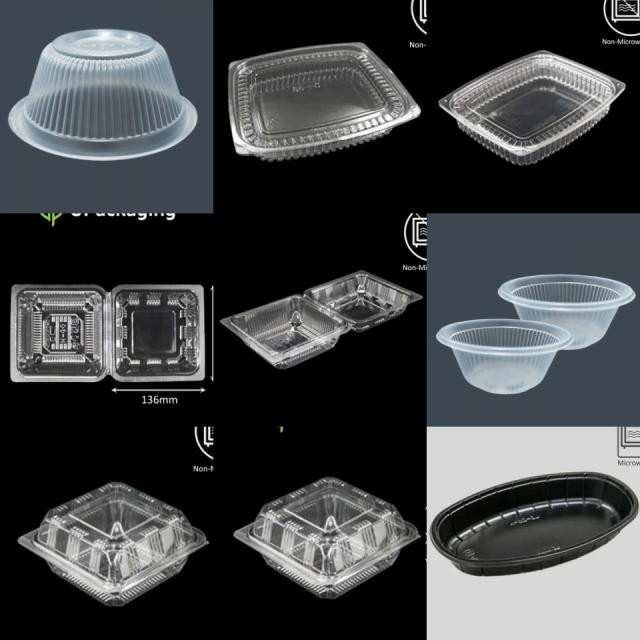Single-Use-Plastic: (9, 30, 196, 160), (19, 482, 208, 606), (229, 42, 420, 160), (235, 478, 419, 599), (430, 471, 639, 576), (439, 50, 625, 164), (221, 271, 421, 369), (10, 285, 204, 382), (436, 319, 572, 394), (499, 275, 635, 349)
